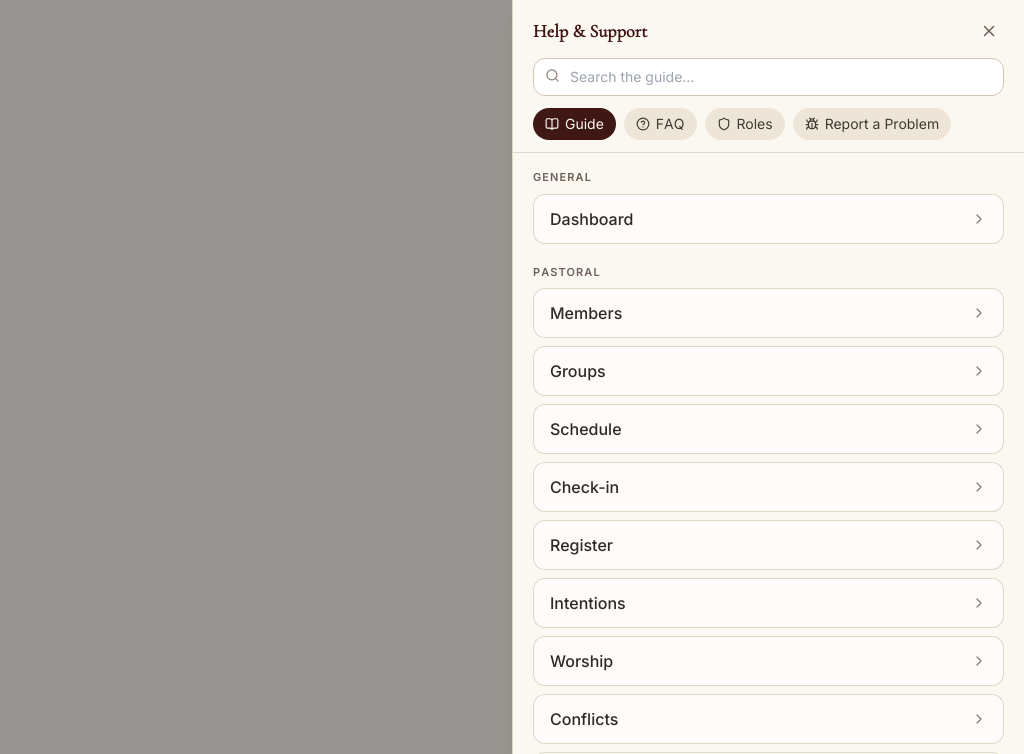
earlier reports › shows a report that came back
Click the button "Report a Problem".
click(872, 124)  # box [793,108,951,140]
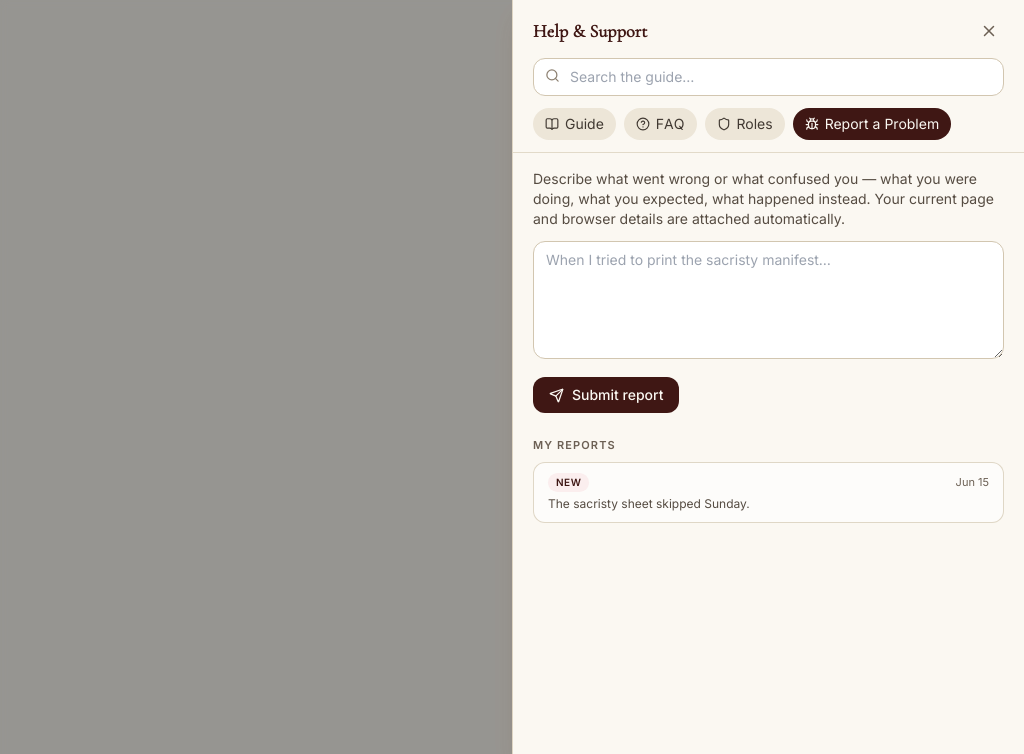
Result: the text "My reports" is shown at [533,438,616,452]
Result: the text "The sacristy sheet skipped Sunday." is shown at [548,496,750,510]
